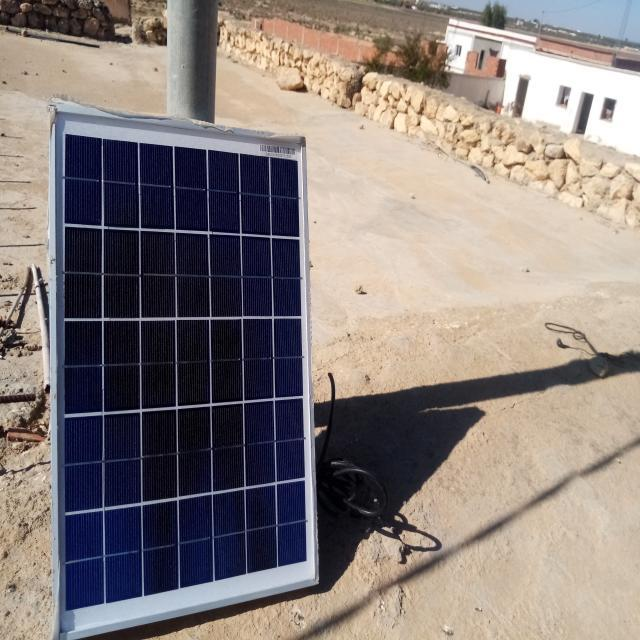no faulty: (54, 105, 320, 640)
